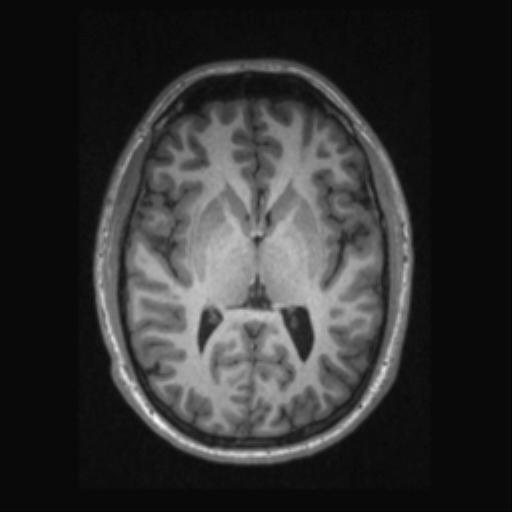Normal_Brain: (3, 3, 512, 512)
